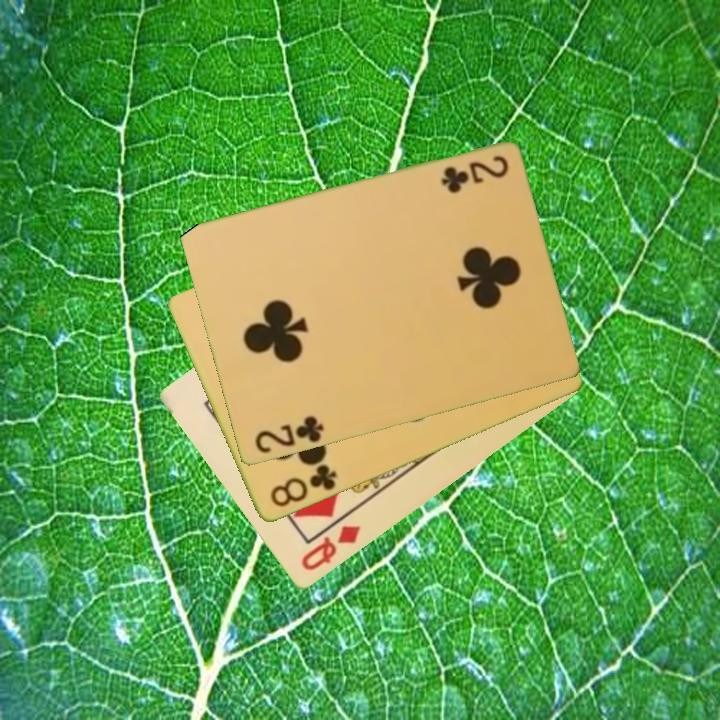2c: (251, 412, 327, 457), (437, 152, 511, 195)
8c: (266, 461, 340, 511)
Qd: (297, 522, 364, 575)
